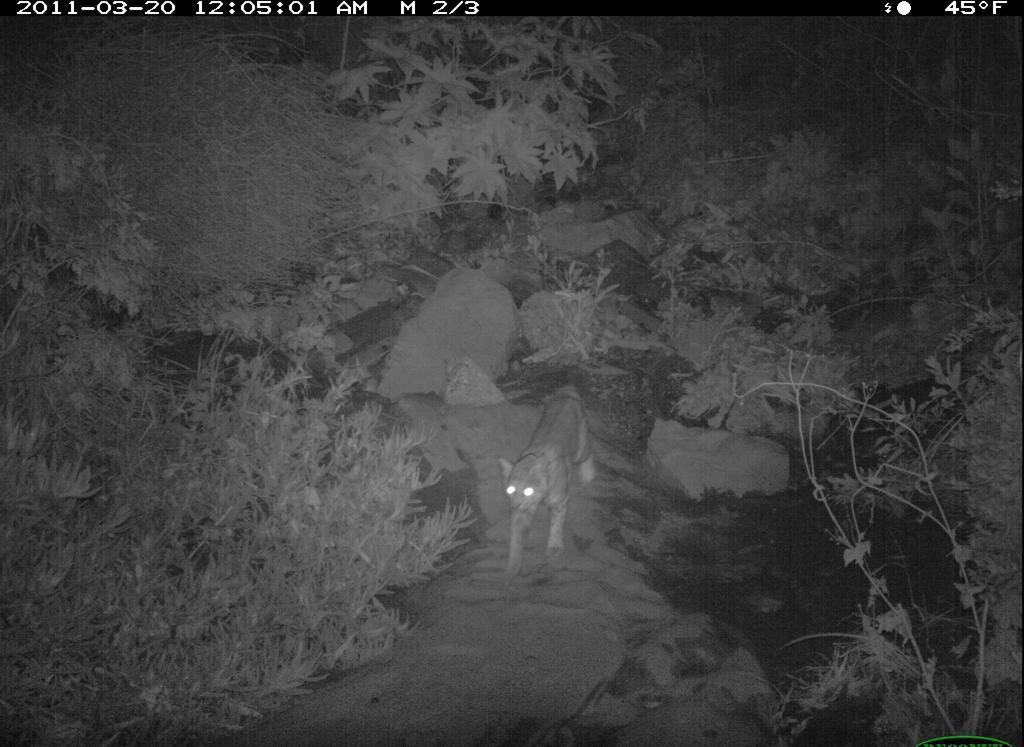bobcat: (479, 358, 619, 584)
